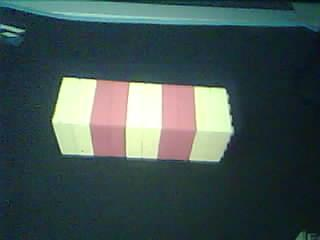lego: (52, 76, 234, 163)
